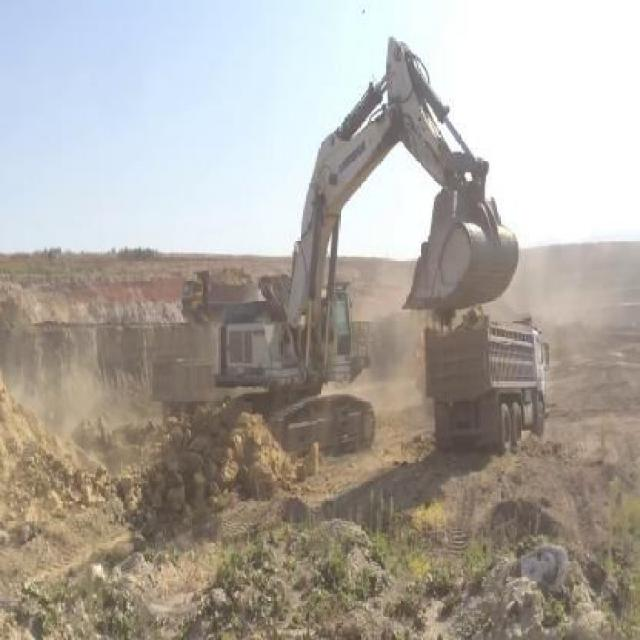Dump Truck: (423, 318, 548, 453), (178, 265, 252, 317)
Excavator: (213, 29, 519, 463)
